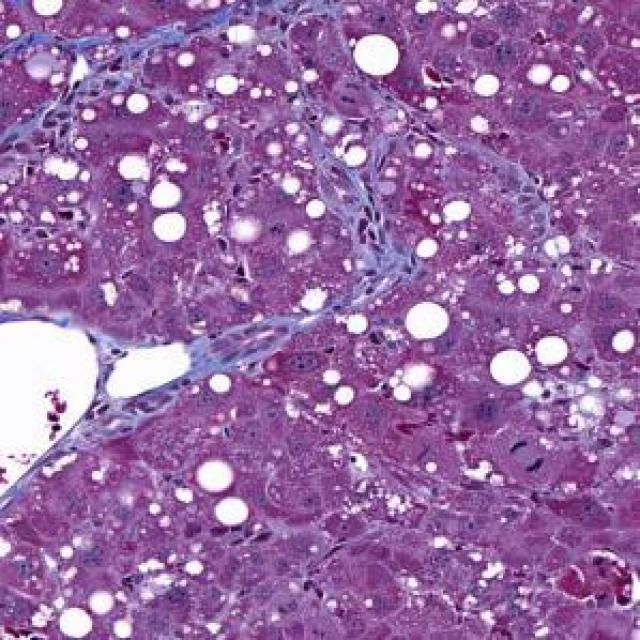fibrosis: (319, 167, 415, 285), (58, 28, 180, 109)
